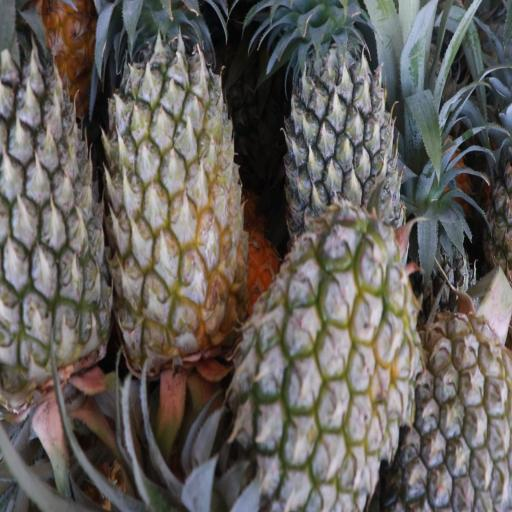------------------------------: (109, 0, 244, 367), (246, 225, 418, 508)
